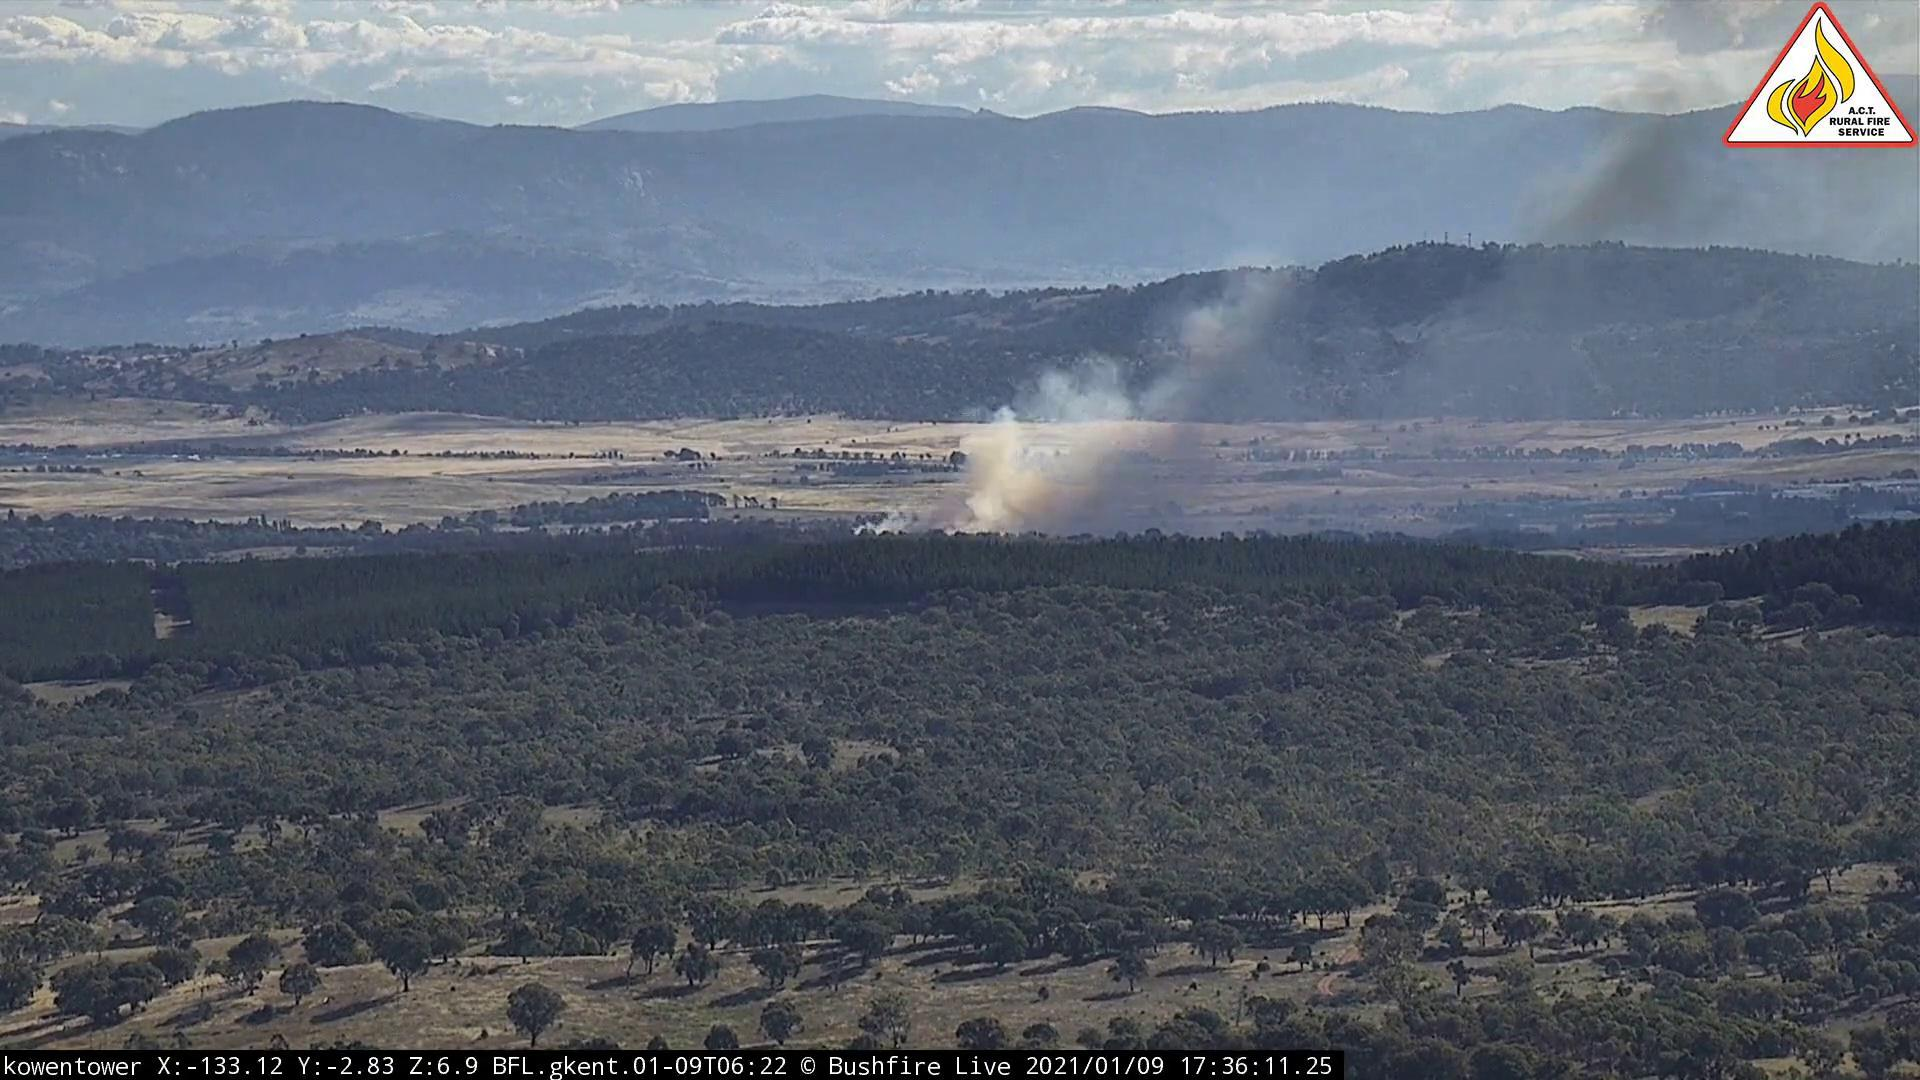Smoke: (853, 160, 1764, 549)
